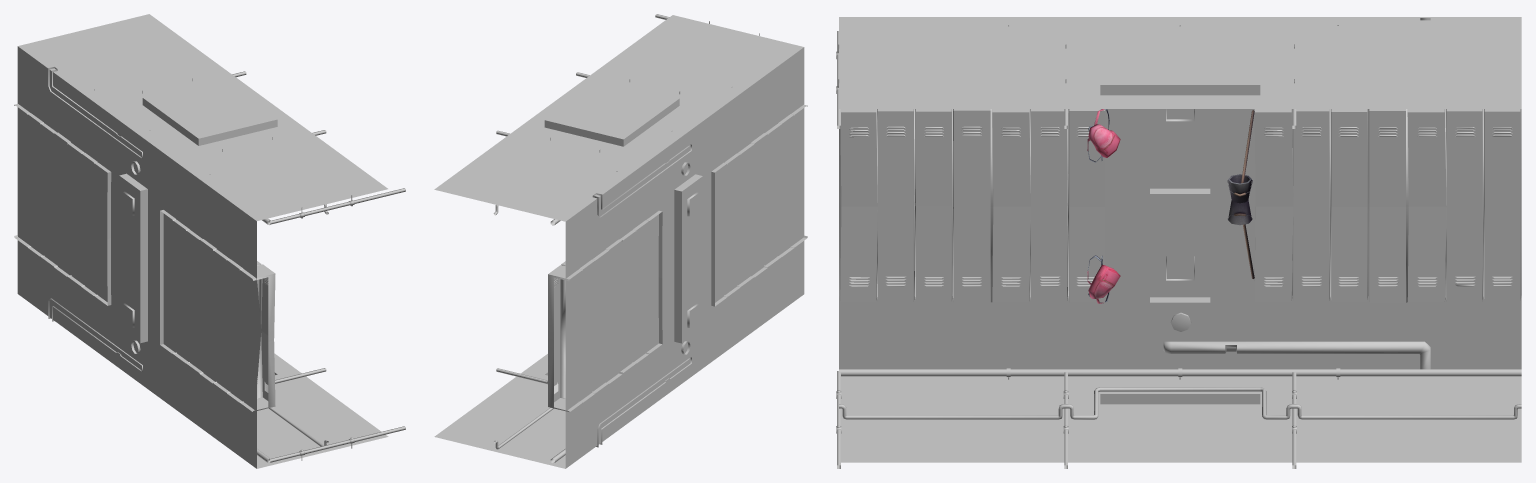
File: HongKongHighSchool.fbx
3 views of the same model, side by side, from view 1: azimuth 30°, elevation 25°; view 2: azimuth 150°, elevation 25°; view 3: azimuth 270°, elevation 25° (orthographic). The views are drawn at different scales.
Parts seen in each view (by area): view 1: Cube_001; view 2: Cube_001; view 3: Cube_001.
Part boxes in pixels (x1,y1,x2,y2): Cube_001: [14, 14, 405, 468]; Cube_001: [434, 14, 807, 468]; Cube_001: [836, 17, 1521, 468].
Size of the model in its own units: 53.33 by 84.73 by 141.
